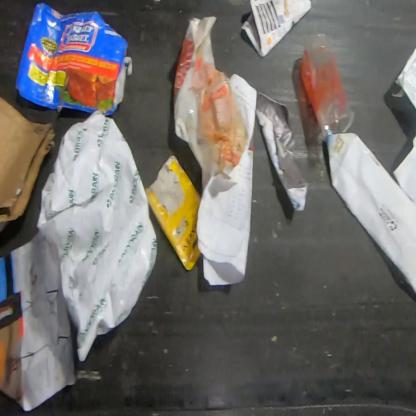cardboard: (326, 132, 415, 297), (13, 1, 134, 117), (0, 95, 57, 223), (145, 153, 202, 272)
rigid_plastic: (299, 31, 355, 142)
soft_plastic: (36, 110, 158, 362), (171, 16, 249, 178)
